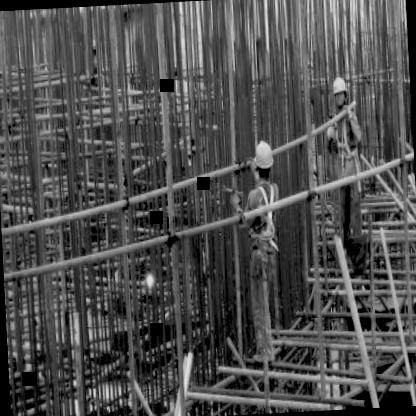helmet: (250, 136, 275, 180), (332, 72, 350, 108)
